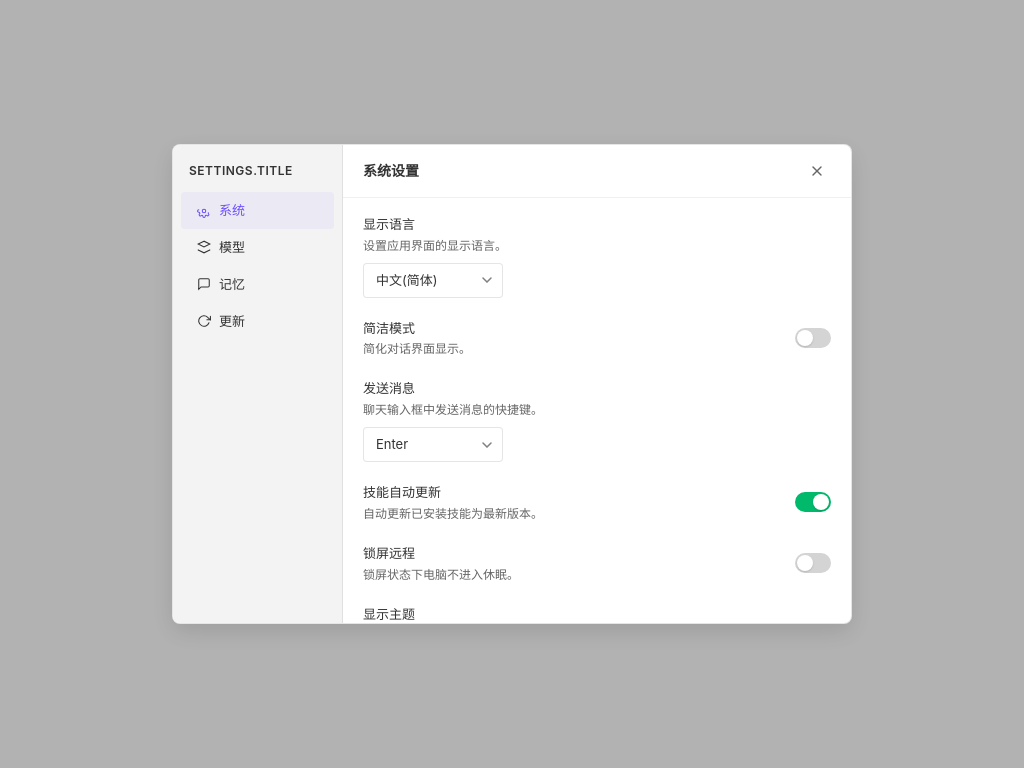
Test: SettingsPage › shows memory entries with delete button
Click the button "记忆". click: (258, 284)
box: [181,266,334,303]
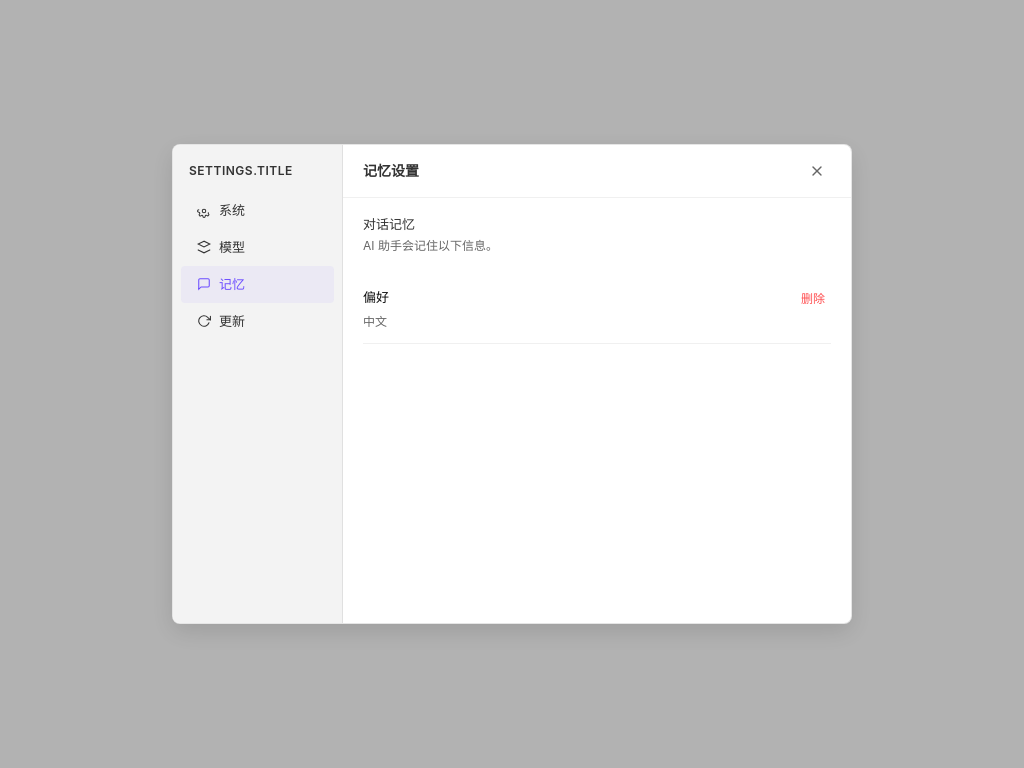
expect the text "中文" is shown: met, box [363,314,387,329]
